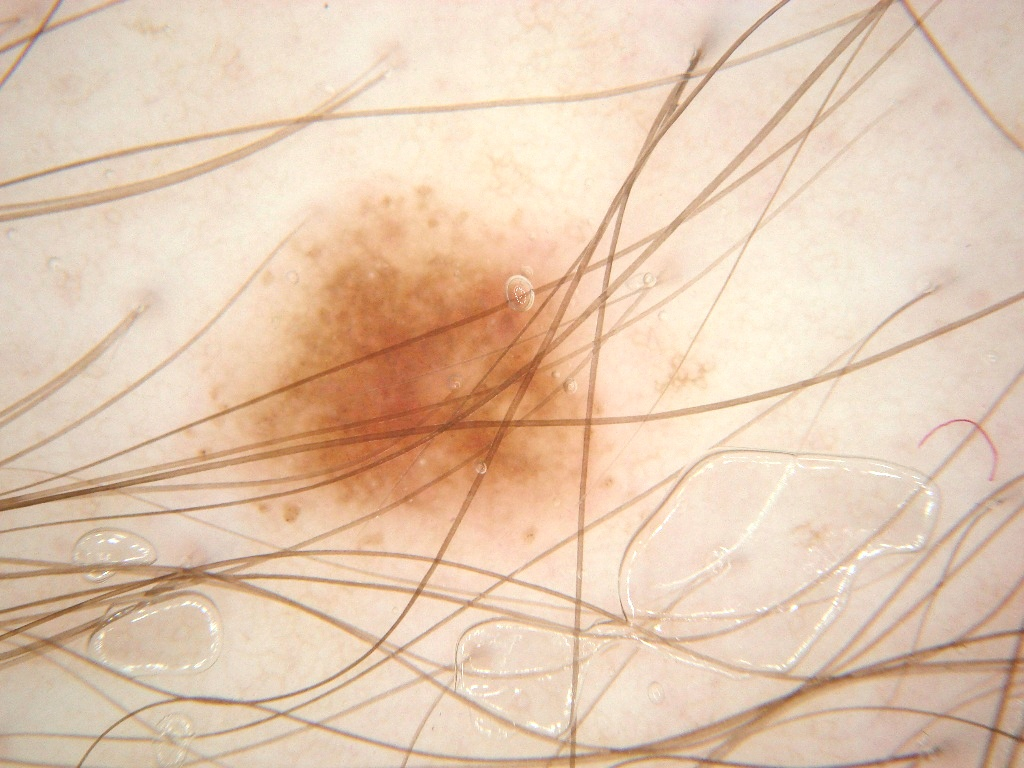Detected Lesion: (184, 183, 696, 549)
